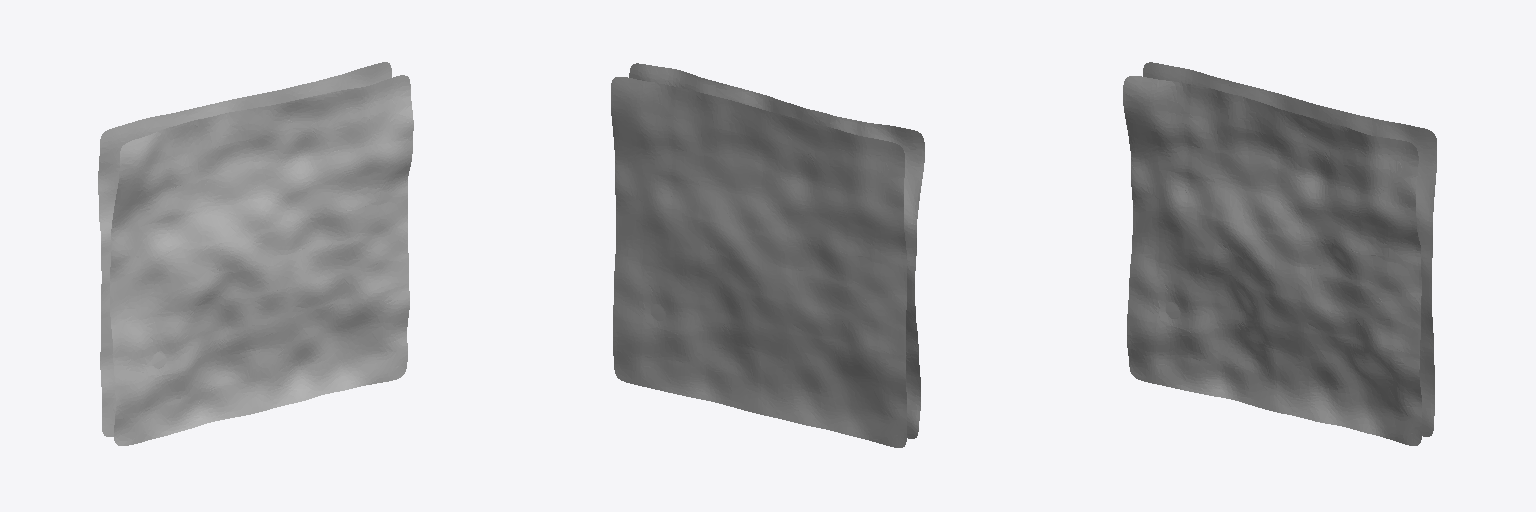
Rendered from slab20k.obj.
3 renders of one model, left to right at view 1: azimuth 30°, elevation 25°; view 2: azimuth 150°, elevation 25°; view 3: azimuth 330°, elevation 25°, orthographic.
Visible parts, largest first — view 1: Mesh1; view 2: Mesh1; view 3: Mesh1.
Part boxes in pixels (bbox=[...]): Mesh1: bbox=[98, 62, 413, 445]; Mesh1: bbox=[611, 63, 924, 447]; Mesh1: bbox=[1123, 62, 1436, 445].
Bounding box in the file's own units: 2 × 2 × 0.2691.